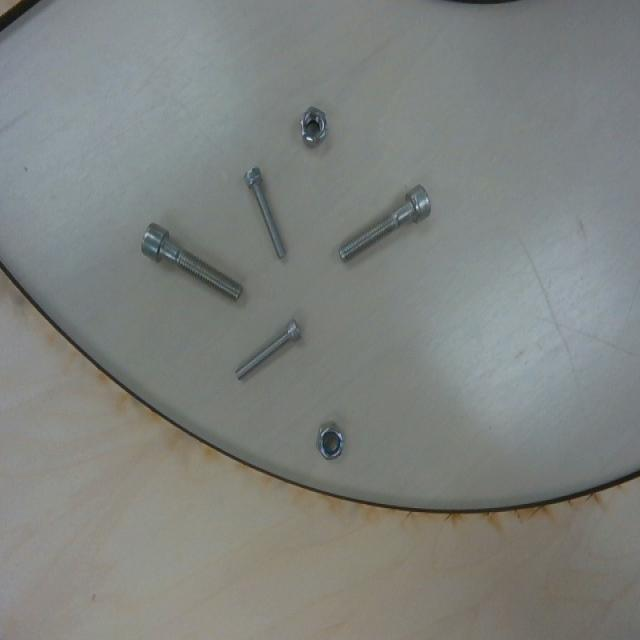Big Bolt: (135, 217, 248, 308), (332, 178, 441, 269)
Metal Nut: (314, 415, 350, 465), (296, 104, 331, 152)
Small Bolt: (241, 162, 290, 264), (236, 320, 304, 385)
